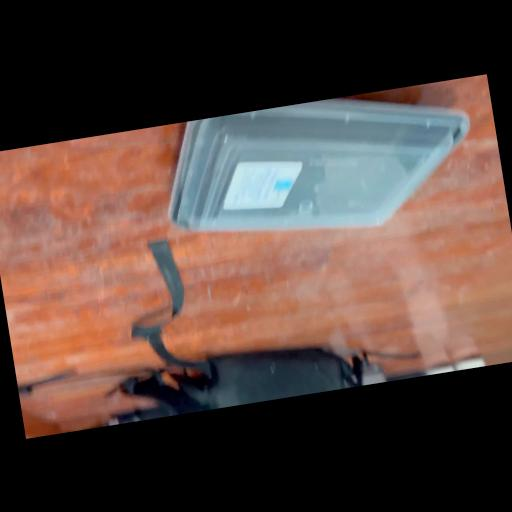rigid_plastic_container: (152, 77, 484, 261)
